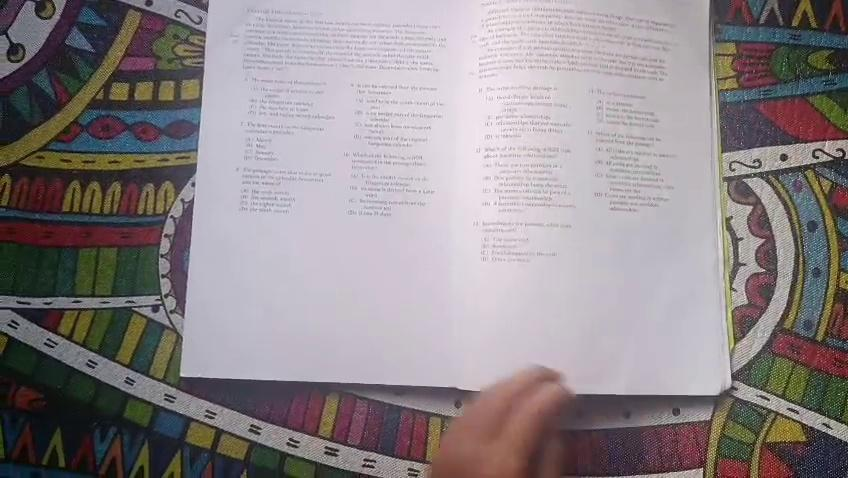Kertas: (211, 0, 497, 380), (454, 1, 718, 361)
